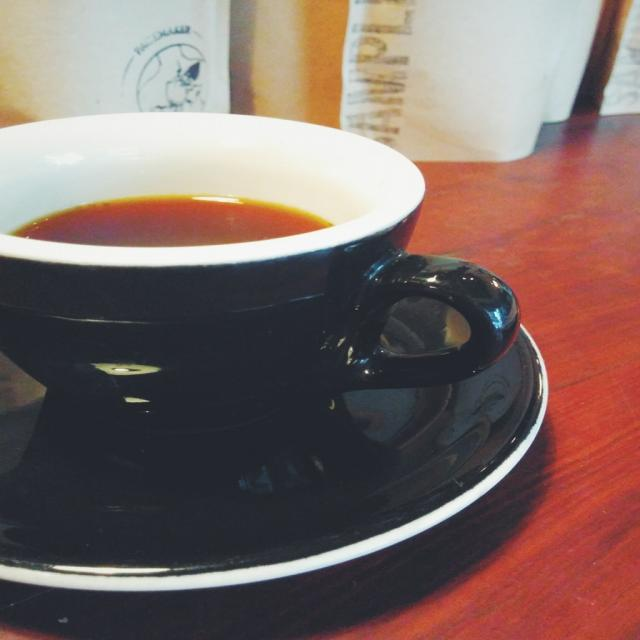Tea: (12, 103, 509, 448), (15, 194, 334, 246)
